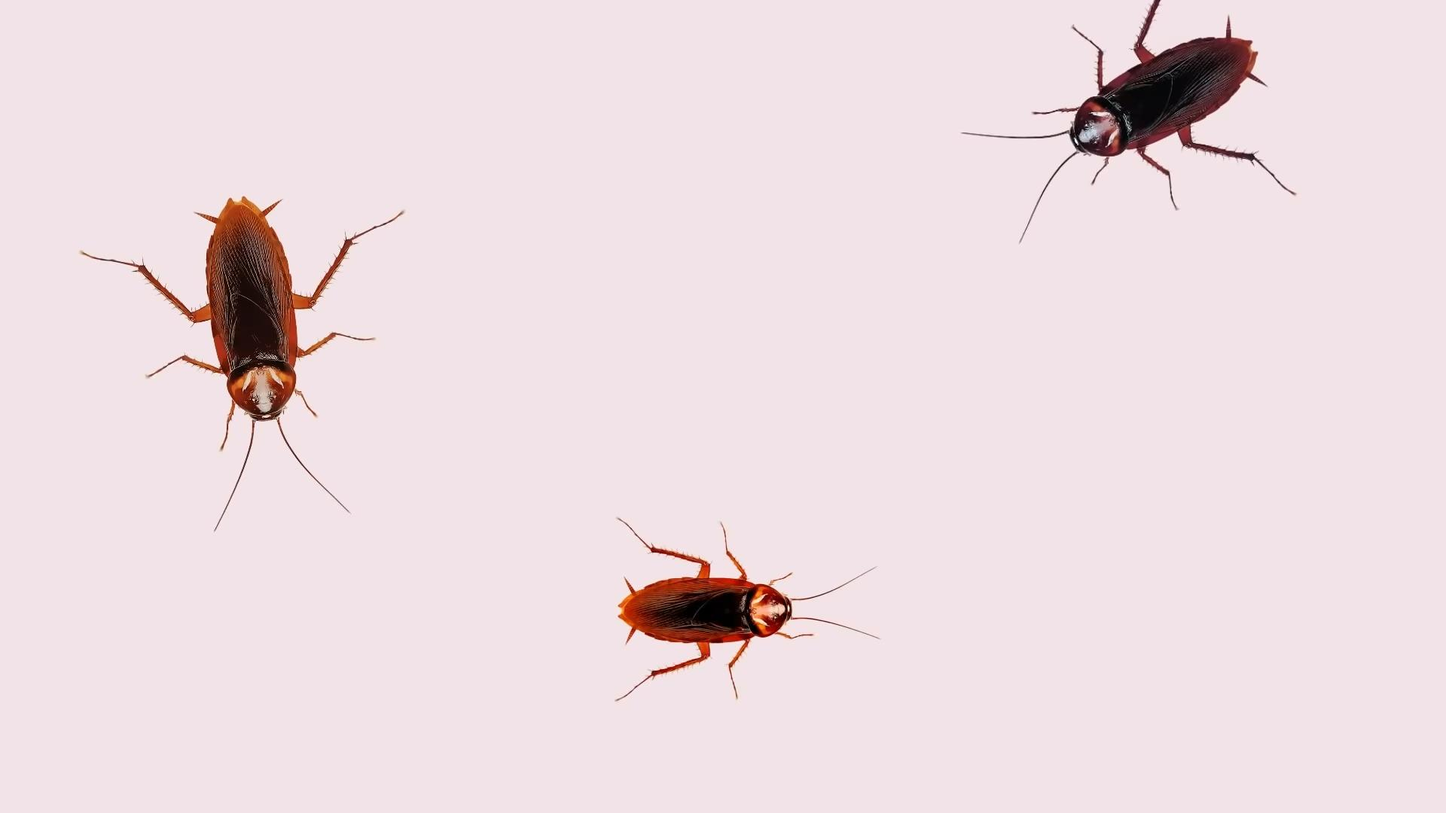cockroach: (77, 181, 406, 536), (966, 0, 1289, 215), (603, 518, 879, 706)
